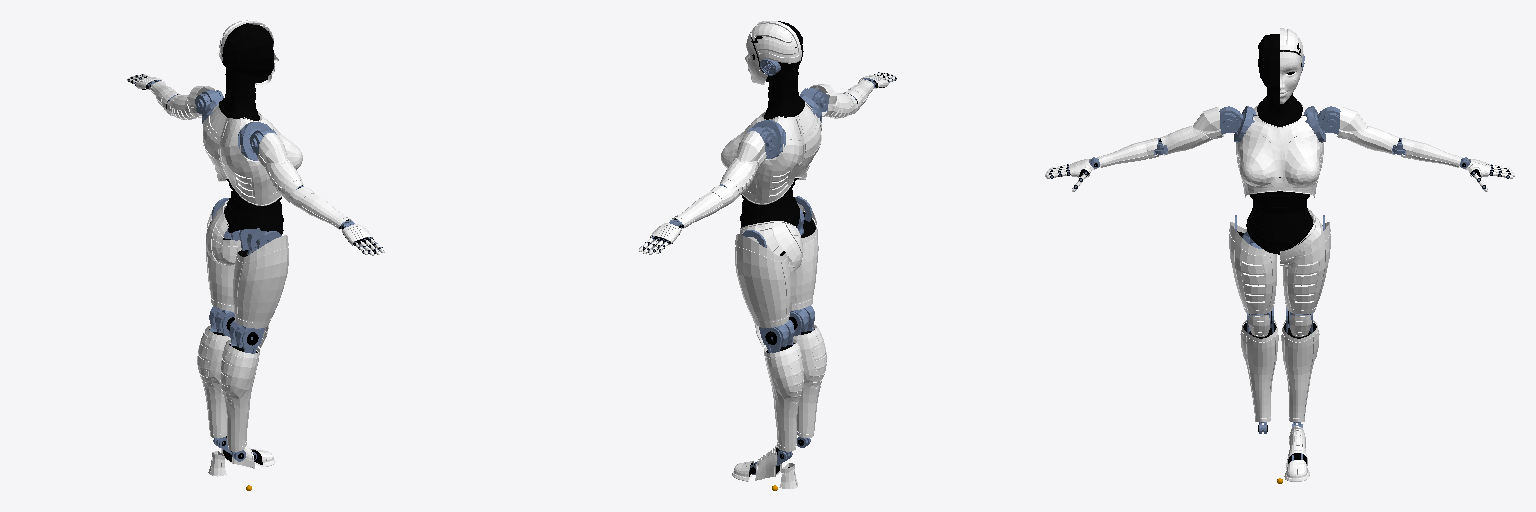
URDF robot description (humanMeshed):
<?xml version="1.0"?>
<robot name="humanMeshed">

  <link name="base_link">
    <visual>
      <geometry>
        <sphere radius="0.01"/>
      </geometry>
    </visual>
  </link>

<!--   HIP starts here  -->
  <link name="hip_roll"/>

  <joint name="hip_roll" type="continuous">
    <parent link="base_link" />
    <child link="hip_roll" />
    <origin xyz="0 0 0.884764"/>
    <axis xyz="1.0 0 0"/>
  </joint>

  <link name="hip_pitch">
    
  </link>

  <joint name="hip_pitch" type="continuous">
    <parent link="hip_roll"/>
    <child link="hip_pitch"/>
    <origin xyz="0 0 0"/>
    <axis xyz="0 1.0 0"/>
  </joint>

  <link name="hip_yaw">
        <visual>
      <geometry>  
        <mesh filename="package://online_tempo/models/humanMeshed/meshes/pelvis.dae" scale="0.06 0.06 0.06"/>
     </geometry>
      <origin rpy="0 0 1.57075" xyz="0 0 -0.96"/>   
    </visual>
  </link>

  <joint name="hip_yaw" type="continuous">
    <parent link="hip_pitch"/>
    <child link="hip_yaw"/>
    <origin xyz="0 0 0"/>
    <axis xyz="0 0 1.0"/>
  </joint>

 <!--           HIP ENDS HERE        -->
 <!--      RIGHT THIGH STARTS HERE    -->
 <joint name="right_thigh_roll" type="continuous">
    <parent link="hip_yaw"/>
    <child link="right_thigh_roll"/>
    <origin xyz="0 -0.0875 0.0375"/>
    <axis xyz="1.0 0 0"/>
 </joint>

 <link name="right_thigh_roll"/>

 <joint name="right_thigh_pitch" type="continuous">
    <parent link="right_thigh_roll"/>
    <child link="right_thigh_pitch"/>
    <origin xyz="0 0 0"/>
    <axis xyz="0 1.0 0"/>
 </joint>

 <link name="right_thigh_pitch"/>

 <joint name="right_thigh_yaw" type="continuous">
    <parent link="right_thigh_pitch"/>
    <child link="right_thigh_yaw"/>
    <origin xyz="0 0 0"/>
    <axis xyz="0 0 1.0"/>
 </joint>

<link name="right_thigh_yaw">
  <visual>
    <geometry>
      <mesh filename="package://online_tempo/models/humanMeshed/meshes/rightThigh.dae" scale="0.06 0.06 0.06"/>
    </geometry>      
    <origin rpy="0 0 1.57075" xyz="0 0.0875 -0.8725"/>  
  </visual>
</link>
<!--       RIGHT THIGH ENDS HERE       -->
<!--       RIGHT KNEE STARTS HERE      -->
<joint name="right_knee_roll" type="continuous">
  <parent link="right_thigh_yaw"/>
  <child link="right_knee_roll"/>
  <origin xyz="-0.05 0.02 -0.3375"/>
  <axis xyz="1.0 0 0"/>
</joint>

<link name="right_knee_roll"/>

<joint name="right_knee_pitch" type="continuous">
  <parent link="right_knee_roll"/>
  <child link="right_knee_pitch"/>
  <origin xyz="0 0 0"/>
  <axis xyz="0 1.0 0"/>
</joint>

<link name="right_knee_pitch"/>

<joint name="right_knee_yaw" type="continuous">
  <parent link="right_knee_pitch"/>
  <child link="right_knee_yaw"/>
  <origin xyz="0 0 0"/>
  <axis xyz="0 0 1.0"/>
</joint>

<link name="right_knee_yaw">
  <visual>
    <geometry>
      <mesh filename="package://online_tempo/models/humanMeshed/meshes/rightShin.dae" scale="0.06 0.06 0.06"/>
    </geometry>      
    <origin rpy="0 0 1.57075" xyz="0.05 0.0675 -0.53"/>    
  </visual>
</link>
<!--         RIGHT KNEE ENDS HERE   -->
<!--         RIGHT FOOT STARTS HERE -->
<joint name="right_foot_roll" type="continuous">
  <parent link="right_knee_yaw"/>
  <child link="right_foot_roll"/>
  <origin xyz="-0.0225 0.0125 -0.425"/>
  <axis xyz="1.0 0 0"/>
</joint> 

<link name="right_foot_roll"/>

<joint name="right_foot_pitch" type="continuous">
  <parent link="right_foot_roll"/>
  <child link="right_foot_pitch"/>
  <origin xyz="0 0 0"/>
  <axis xyz="0 1.0 0"/>
</joint> 

<link name="right_foot_pitch"/>

<joint name="right_foot_yaw" type="continuous">
  <parent link="right_foot_pitch"/>
  <child link="right_foot_yaw"/>
  <origin xyz="0 0 0"/>
  <axis xyz="0 0 1.0"/>
</joint> 

<link name="right_foot_yaw">
  <visual>
    <geometry>
      <mesh filename="package://online_tempo/models/humanMeshed/meshes/rightFoot.dae" scale="0.06 0.06 0.06"/>
    </geometry>
    <origin rpy="0 0 1.57075" xyz="0.07375 0.055 -0.1075"/>    
   </visual>
 </link>

<joint name="right_toe_roll" type="continuous">
  <parent link="right_foot_yaw"/>
  <child link="right_toe_roll"/>
  <origin xyz="0.11 -0.0025 -0.07"/>
  <axis xyz="1.0 0 0"/>
</joint>

<link name="right_toe_roll"/>

<joint name="right_toe_pitch" type="continuous">
  <parent link="right_toe_roll"/>
  <child link="right_toe_pitch"/>
  <origin xyz="0 0 0"/>
  <axis xyz="0 1.0 0"/>
</joint>

<link name="right_toe_pitch"/>

<joint name="right_toe_yaw" type="continuous">
  <parent link="right_toe_pitch"/>
  <child link="right_toe_yaw"/>
  <origin xyz="0 0 0"/>
  <axis xyz="0 0 1.0"/>
</joint>

<link name="right_toe_yaw"/>

<!--   RIGHT FOOT ENDS HERE   -->
<!--   LEFT THIGH STARTS HERE -->
 <joint name="left_thigh_roll" type="continuous">
    <parent link="hip_yaw"/>
    <child link="left_thigh_roll"/>
    <origin xyz="0 0.0875 0.0375"/>
    <axis xyz="1.0 0 0"/>
 </joint>

 <link name="left_thigh_roll"/>

 <joint name="left_thigh_pitch" type="continuous">
    <parent link="left_thigh_roll"/>
    <child link="left_thigh_pitch"/>
    <origin xyz="0 0 0"/>
    <axis xyz="0 1.0 0"/>
 </joint>

 <link name="left_thigh_pitch"/>

 <joint name="left_thigh_yaw" type="continuous">
    <parent link="left_thigh_pitch"/>
    <child link="left_thigh_yaw"/>
    <origin xyz="0 0 0"/>
    <axis xyz="0 0 1.0"/>
 </joint>

<link name="left_thigh_yaw">
  <visual>
    <geometry>
      <mesh filename="package://online_tempo/models/humanMeshed/meshes/leftThigh.dae" scale="0.06 0.06 0.06"/>
    </geometry>      
    <origin rpy="0 0 1.57075" xyz="0 -0.0875 -0.8725"/>    
  </visual>
</link>
<!--     LEFT THIGH ENDS HERE -->
<!--       LEFT KNEE STARTS HERE      -->
<joint name="left_knee_roll" type="continuous">
  <parent link="left_thigh_yaw"/>
  <child link="left_knee_roll"/>
  <origin xyz="-0.05 -0.02 -0.3375"/>
  <axis xyz="1.0 0 0"/>
</joint>

<link name="left_knee_roll"/>

<joint name="left_knee_pitch" type="continuous">
  <parent link="left_knee_roll"/>
  <child link="left_knee_pitch"/>
  <origin xyz="0 0 0"/>
  <axis xyz="0 1.0 0"/>
</joint>

<link name="left_knee_pitch"/>

<joint name="left_knee_yaw" type="continuous">
  <parent link="left_knee_pitch"/>
  <child link="left_knee_yaw"/>
  <origin xyz="0 0 0"/>
  <axis xyz="0 0 1.0"/>
</joint>

<link name="left_knee_yaw">
  <visual>
    <geometry>
      <mesh filename="package://online_tempo/models/humanMeshed/meshes/leftShin.dae" scale="0.06 0.06 0.06"/>
    </geometry>      
    <origin rpy="0 0 1.57075" xyz="0.05 -0.0675 -0.53"/>   
  </visual>
</link>
<!--         left KNEE ENDS HERE   -->
<!--         left FOOT STARTS HERE -->
<joint name="left_foot_roll" type="continuous">
  <parent link="left_knee_yaw"/>
  <child link="left_foot_roll"/>
  <origin xyz="-0.0225 -0.0125 -0.425"/>
  <axis xyz="1.0 0 0"/>
</joint> 

<link name="left_foot_roll"/>

<joint name="left_foot_pitch" type="continuous">
  <parent link="left_foot_roll"/>
  <child link="left_foot_pitch"/>
  <origin xyz="0 0 0"/>
  <axis xyz="0 1.0 0"/>
</joint> 

<link name="left_foot_pitch"/>

<joint name="left_foot_yaw" type="continuous">
  <parent link="left_foot_pitch"/>
  <child link="left_foot_yaw"/>
  <origin xyz="0 0 0"/>
  <axis xyz="0 0 1.0"/>
</joint> 

<link name="left_foot_yaw">
  <visual>
    <geometry>
      <mesh filename="package://online_tempo/models/humanMeshed/meshes/leftFoot.dae" scale="0.06 0.06 0.06"/>
    </geometry>
    <origin rpy="0 0 1.57075" xyz="0.07375 -0.055 -0.1075"/>    
   </visual>
</link>

<joint name="left_toe_roll" type="continuous">
  <parent link="left_foot_yaw"/>
  <child link="left_toe_roll"/>
  <origin xyz="0.11 0.0025 -0.07"/>
  <axis xyz="1.0 0 0"/>
</joint>

<link name="left_toe_roll"/>

<joint name="left_toe_pitch" type="continuous">
  <parent link="left_toe_roll"/>
  <child link="left_toe_pitch"/>
  <origin xyz="0 0 0"/>
  <axis xyz="0 1.0 0"/>
</joint>

<link name="left_toe_pitch"/>

<joint name="left_toe_yaw" type="continuous">
  <parent link="left_toe_pitch"/>
  <child link="left_toe_yaw"/>
  <origin xyz="0 0 0"/>
  <axis xyz="0 0 1.0"/>
</joint>

<link name="left_toe_yaw"/>



<!--   left FOOT ENDS HERE   -->
<!--   lower_spine STARTS HERE   -->
<joint name="lower_spine_roll" type="continuous">
  <parent link="hip_yaw"/>
  <child link="lower_spine_roll"/>
  <origin xyz="0 0 0.025"/>
  <axis xyz="1.0 0 0"/>
</joint>

<link name="lower_spine_roll"/>

<joint name="lower_spine_pitch" type="continuous">
  <parent link="lower_spine_roll"/>
  <child link="lower_spine_pitch"/>
  <origin xyz="0 0 0"/>
  <axis xyz="0 1.0 0"/>
</joint>

<link name="lower_spine_pitch"/>

<joint name="lower_spine_yaw" type="continuous">
  <parent link="lower_spine_pitch"/>
  <child link="lower_spine_yaw"/>
  <origin xyz="0 0 0"/>
  <axis xyz="0 0 1.0"/>
</joint>


<link name="lower_spine_yaw">
  <visual>
    <geometry>
              <mesh filename="package://online_tempo/models/humanMeshed/meshes/abdomen.dae" scale="0.06 0.06 0.06"/>
    </geometry>
    <origin rpy="0 0 1.57075" xyz="-0.005 0 -1"/>    
  </visual>
</link>

<!--  lower_spine ENDS HERE     -->
<!--  middle_spine Starts here  -->
<joint name="middle_spine_roll" type="continuous">
  <parent link="lower_spine_yaw"/>
  <child link="middle_spine_roll"/>
  <origin xyz="0 0 0.08"/>
  <axis xyz="1.0 0 0"/>
</joint>

<link name="middle_spine_roll"/>

<joint name="middle_spine_pitch" type="continuous">
  <parent link="middle_spine_roll"/>
  <child link="middle_spine_pitch"/>
  <origin xyz="0 0 0"/>
  <axis xyz="0 1.0 0"/>
</joint>

<link name="middle_spine_pitch"/>

<joint name="middle_spine_yaw" type="continuous">
  <parent link="middle_spine_pitch"/>
  <child link="middle_spine_yaw"/>
  <origin xyz="0 0 0"/>
  <axis xyz="0 0 1.0"/>
</joint>

<link name="middle_spine_yaw">
  <!--
  <visual>
    <geometry>
        <box size="0.10 0.25 0.08"/>
    </geometry>
    <origin rpy="0 0 0" xyz="0 0 0.04"/>    
  </visual>
-->
</link>

<!--  middle_spine Ends here    -->
<!--  CHEST STARTS HERE     -->
<joint name="chest_roll" type="continuous">
  <parent link="middle_spine_yaw"/>
  <child link="chest_roll"/>
  <origin xyz="0 0 0.08"/>
  <axis xyz="1.0 0 0"/>
</joint>

<link name="chest_roll"/>

<joint name="chest_pitch" type="continuous">
  <parent link="chest_roll"/>
  <child link="chest_pitch"/>
  <origin xyz="0 0 0"/>
  <axis xyz="0 1.0 0"/>
</joint>

<link name="chest_pitch"/>

<joint name="chest_yaw" type="continuous">
  <parent link="chest_pitch"/>
  <child link="chest_yaw"/>
  <origin xyz="0 0 0"/>
  <axis xyz="0 0 1.0"/>
</joint>

<link name="chest_yaw">
  <visual>
    <geometry>
      <mesh filename="package://online_tempo/models/humanMeshed/meshes/chest.dae" scale="0.06 0.06 0.06"/>
    </geometry>
    <origin rpy="0 0 1.57075" xyz="0 0 -1.2"/>    
  </visual>
</link>
<!--     Chest ends here            -->
<!--     left clavicle starts here  -->
<joint name="left_clavicle_roll" type="continuous">
  <parent link="chest_yaw"/>
  <child link="left_clavicle_roll"/>
  <origin xyz="-0.04 0.0125 0.22"/>
  <axis xyz="1.0 0 0"/>
</joint>

<link name="left_clavicle_roll"/>

<joint name="left_clavicle_pitch" type="continuous">
  <parent link="left_clavicle_roll"/>
  <child link="left_clavicle_pitch"/>
  <origin xyz="0 0 0"/>
  <axis xyz="0 1.0 0"/>
</joint>

<link name="left_clavicle_pitch"/>

<joint name="left_clavicle_yaw" type="continuous">
  <parent link="left_clavicle_pitch"/>
  <child link="left_clavicle_yaw"/>
  <origin xyz="0 0 0"/>
  <axis xyz="0 0 1.0"/>
</joint>

<link name="left_clavicle_yaw">
  <visual>
    <geometry>
    <mesh filename="package://online_tempo/models/humanMeshed/meshes/leftClavicle.dae" scale="0.06 0.06 0.06"/>
    </geometry>
    <origin rpy="0 0 1.57075" xyz="0.04 0 -1.4"/>
  </visual>
</link>
<!-- left clavicle ends here   -->
<!-- left shoulder starts here -->
<joint name="left_shoulder_roll" type="continuous">
  <parent link="left_clavicle_yaw"/>
  <child link="left_shoulder_roll"/>
  <origin xyz="0 0.16 0.0225"/>
  <axis xyz="1.0 0 0"/>
</joint>

<link name="left_shoulder_roll"/>

<joint name="left_shoulder_pitch" type="continuous">
  <parent link="left_shoulder_roll"/>
  <child link="left_shoulder_pitch"/>
  <origin xyz="0 0 0"/>
  <axis xyz="0 1.0 0"/>
</joint>

<link name="left_shoulder_pitch"/>

<joint name="left_shoulder_yaw" type="continuous">
  <parent link="left_shoulder_pitch"/>
  <child link="left_shoulder_yaw"/>
  <origin xyz="0 0 0"/>
  <axis xyz="0 0 1.0"/>
</joint>

<link name="left_shoulder_yaw">
  <visual>
    <geometry>
      <mesh filename="package://online_tempo/models/humanMeshed/meshes/leftBicep.dae" scale="0.06 0.06 0.06"/> 
    </geometry>
    <origin rpy="0 0 1.57075 " xyz="0.04 -0.16 -1.42" />
  </visual>
</link>
<!-- left shoulder ends here -->
<!-- left elbow starts here -->
<joint name="left_elbow_roll" type="continuous">
  <parent link="left_shoulder_yaw"/>
  <child link="left_elbow_roll"/>
  <origin xyz="0 0.23 -0.095"/>
  <axis xyz="1.0 0 0"/>
</joint>

<link name="left_elbow_roll"/>

<joint name="left_elbow_pitch" type="continuous">
  <parent link="left_elbow_roll"/>
  <child link="left_elbow_pitch"/>
  <origin xyz="0 0 0"/>
  <axis xyz="0 1.0 0"/>
</joint>

<link name="left_elbow_pitch"/>

<joint name="left_elbow_yaw" type="continuous">
  <parent link="left_elbow_pitch"/>
  <child link="left_elbow_yaw"/>
  <origin xyz="0 0 0"/>
  <axis xyz="0 0 1.0"/>
</joint>

<link name="left_elbow_yaw">
  <visual>
    <geometry>
      <mesh filename="package://online_tempo/models/humanMeshed/meshes/leftForearm.dae" scale="0.06 0.06 0.06"/> 
    </geometry>
    <origin rpy="0 0 1.57075 " xyz="0.04 -0.4 -1.322" />
  </visual>
</link>
<!-- left elbow ends here   -->
<!-- left hand starts here  -->
<joint name="left_hand_roll" type="continuous">
  <parent link="left_elbow_yaw"/>
  <child link="left_hand_roll"/>
  <origin xyz="0.046 0.211 -0.04"/>
  <axis xyz="1.0 0 0"/>
</joint>

<link name="left_hand_roll"/>

<joint name="left_hand_pitch" type="continuous">
  <parent link="left_hand_roll"/>
  <child link="left_hand_pitch"/>
  <origin xyz="0 0 0"/>
  <axis xyz="0 1.0 0"/>
</joint>

<link name="left_hand_pitch"/>

<joint name="left_hand_yaw" type="continuous">
  <parent link="left_hand_pitch"/>
  <child link="left_hand_yaw"/>
  <origin xyz="0 0 0"/>
  <axis xyz="0 0 1.0"/>
</joint>

<link name="left_hand_yaw">
  <visual>
    <geometry>
      <mesh filename="package://online_tempo/models/humanMeshed/meshes/leftHand.dae" scale="0.06 0.06 0.06"/> 
    </geometry>
    <origin rpy="0 0 1.57075 " xyz="-0.0075 -0.61 -1.28" />
  </visual>
</link>
<!-- left hand ends here    -->

<joint name="right_clavicle_roll" type="continuous">
  <parent link="chest_yaw"/>
  <child link="right_clavicle_roll"/>
  <origin xyz="-0.04 -0.0125 0.22"/>
  <axis xyz="1.0 0 0"/>
</joint>

<link name="right_clavicle_roll"/>

<joint name="right_clavicle_pitch" type="continuous">
  <parent link="right_clavicle_roll"/>
  <child link="right_clavicle_pitch"/>
  <origin xyz="0 0 0"/>
  <axis xyz="0 1.0 0"/>
</joint>

<link name="right_clavicle_pitch"/>

<joint name="right_clavicle_yaw" type="continuous">
  <parent link="right_clavicle_pitch"/>
  <child link="right_clavicle_yaw"/>
  <origin xyz="0 0 0"/>
  <axis xyz="0 0 1.0"/>
</joint>

<link name="right_clavicle_yaw">
  <visual>
    <geometry>
    <mesh filename="package://online_tempo/models/humanMeshed/meshes/rightClavicle.dae" scale="0.06 0.06 0.06"/>
    </geometry>
    <origin rpy="0 0 1.57075" xyz="0.04 0 -1.4"/>
  </visual>
</link>
<!-- right clavicle ends here   -->
<!-- right shoulder starts here -->
<joint name="right_shoulder_roll" type="continuous">
  <parent link="right_clavicle_yaw"/>
  <child link="right_shoulder_roll"/>
  <origin xyz="0 -0.16 0.0225"/>
  <axis xyz="1.0 0 0"/>
</joint>

<link name="right_shoulder_roll"/>

<joint name="right_shoulder_pitch" type="continuous">
  <parent link="right_shoulder_roll"/>
  <child link="right_shoulder_pitch"/>
  <origin xyz="0 0 0"/>
  <axis xyz="0 1.0 0"/>
</joint>

<link name="right_shoulder_pitch"/>

<joint name="right_shoulder_yaw" type="continuous">
  <parent link="right_shoulder_pitch"/>
  <child link="right_shoulder_yaw"/>
  <origin xyz="0 0 0"/>
  <axis xyz="0 0 1.0"/>
</joint>

<link name="right_shoulder_yaw">
  <visual>
    <geometry>
      <mesh filename="package://online_tempo/models/humanMeshed/meshes/rightBicep.dae" scale="0.06 0.06 0.06"/> 
    </geometry>
    <origin rpy="0 0 1.57075 " xyz="0.04 0.16 -1.42" />
  </visual>
</link>
<!-- right shoulder ends here -->
<!-- right elbow starts here -->
<joint name="right_elbow_roll" type="continuous">
  <parent link="right_shoulder_yaw"/>
  <child link="right_elbow_roll"/>
  <origin xyz="0 -0.23 -0.095"/>
  <axis xyz="1.0 0 0"/>
</joint>

<link name="right_elbow_roll"/>

<joint name="right_elbow_pitch" type="continuous">
  <parent link="right_elbow_roll"/>
  <child link="right_elbow_pitch"/>
  <origin xyz="0 0 0"/>
  <axis xyz="0 1.0 0"/>
</joint>

<link name="right_elbow_pitch"/>

<joint name="right_elbow_yaw" type="continuous">
  <parent link="right_elbow_pitch"/>
  <child link="right_elbow_yaw"/>
  <origin xyz="0 0 0"/>
  <axis xyz="0 0 1.0"/>
</joint>

<link name="right_elbow_yaw">
  <visual>
    <geometry>
      <mesh filename="package://online_tempo/models/humanMeshed/meshes/rightForearm.dae" scale="0.06 0.06 0.06"/> 
    </geometry>
    <origin rpy="0 0 1.57075 " xyz="0.04 0.4 -1.322" />
  </visual>
</link>
<!-- right elbow ends here   -->
<!-- right hand starts here  -->
<joint name="right_hand_roll" type="continuous">
  <parent link="right_elbow_yaw"/>
  <child link="right_hand_roll"/>
  <origin xyz="0.046 -0.211 -0.04"/>
  <axis xyz="1.0 0 0"/>
</joint>

<link name="right_hand_roll"/>

<joint name="right_hand_pitch" type="continuous">
  <parent link="right_hand_roll"/>
  <child link="right_hand_pitch"/>
  <origin xyz="0 0 0"/>
  <axis xyz="0 1.0 0"/>
</joint>

<link name="right_hand_pitch"/>

<joint name="right_hand_yaw" type="continuous">
  <parent link="right_hand_pitch"/>
  <child link="right_hand_yaw"/>
  <origin xyz="0 0 0"/>
  <axis xyz="0 0 1.0"/>
</joint>

<link name="right_hand_yaw">
  <visual>
    <geometry>
      <mesh filename="package://online_tempo/models/humanMeshed/meshes/rightHand.dae" scale="0.06 0.06 0.06"/> 
    </geometry>
    <origin rpy="0 0 1.57075 " xyz="-0.0075 0.61 -1.28" />
  </visual>
</link>
<!-- right hand ends here    -->

<!-- neck starts here   -->
<joint name="neck_roll" type="continuous">
  <parent link="chest_yaw"/>
  <child link="neck_roll"/>
  <origin xyz="0 0 0.25"/>
  <axis xyz="1.0 0 0"/>
</joint>

<link name="neck_roll"/>

<joint name="neck_pitch" type="continuous">
  <parent link="neck_roll"/>
  <child link="neck_pitch"/>
  <origin xyz="0 0 0"/>
  <axis xyz="0 1.0 0"/>
</joint>

<link name="neck_pitch"/>

<joint name="neck_yaw" type="continuous">
  <parent link="neck_pitch"/>
  <child link="neck_yaw"/>
  <origin xyz="0 0 0"/>
  <axis xyz="0 0 1.0"/>
</joint>

<link name="neck_yaw">
  <visual>
    <geometry>
      <mesh filename="package://online_tempo/models/humanMeshed/meshes/neck.dae" scale="0.06 0.06 0.06"/> 
    </geometry>
    <origin rpy="0 0 1.57075 " xyz="-0.0075 0 -1.45" />
  </visual>
</link>
<!-- neck ends here -->
<!-- head starts here -->
<joint name="head_roll" type="continuous">
  <parent link="neck_yaw"/>
  <child link="head_roll"/>
  <origin xyz="0 0 0.10"/>
  <axis xyz="1.0 0 0"/>
</joint>

<link name="head_roll"/>

<joint name="head_pitch" type="continuous">
  <parent link="head_roll"/>
  <child link="head_pitch"/>
  <origin xyz="0 0 0"/>
  <axis xyz="0 1.0 0"/>
</joint>

<link name="head_pitch"/>

<joint name="head_yaw" type="continuous">
  <parent link="head_pitch"/>
  <child link="head_yaw"/>
  <origin xyz="0 0 0"/>
  <axis xyz="0 0 1.0"/>
</joint>

<link name="head_yaw">
  <visual>
    <geometry>
      <mesh filename="package://online_tempo/models/humanMeshed/meshes/head.dae" scale="0.06 0.06 0.06"/> 
    </geometry>
    <origin rpy="0 0 1.57075 " xyz="-0.0075 0 -1.53" />
  </visual>
</link>
<!-- head ends here -->
</robot>

--- What the picture shows (computed from the rendered views, not written in the file) ---
3 views of the same robot in one strip: view 1: azimuth 30°, elevation 25°; view 2: azimuth 150°, elevation 25°; view 3: azimuth 270°, elevation 25° (orthographic).
Robot: humanMeshed — 67 links, 66 joints (66 continuous); root link base_link; default pose: every joint at zero.
Links seen in each view (by area): view 1: right_thigh_yaw, chest_yaw, right_knee_yaw, head_yaw, left_knee_yaw, left_thigh_yaw, right_shoulder_yaw, lower_spine_yaw, neck_yaw, right_elbow_yaw, left_shoulder_yaw, left_foot_yaw (+3 smaller); view 2: left_thigh_yaw, chest_yaw, left_knee_yaw, head_yaw, right_knee_yaw, right_thigh_yaw, left_shoulder_yaw, hip_yaw, neck_yaw, left_foot_yaw, lower_spine_yaw, left_elbow_yaw (+3 smaller); view 3: chest_yaw, lower_spine_yaw, right_thigh_yaw, right_knee_yaw, left_knee_yaw, left_thigh_yaw, head_yaw, right_shoulder_yaw, left_shoulder_yaw, neck_yaw, left_foot_yaw, left_elbow_yaw (+6 smaller).
Link boxes in pixels (box(x1,y1,x2,y2)): right_thigh_yaw: box(229, 228, 288, 346); chest_yaw: box(202, 104, 302, 205); right_knee_yaw: box(220, 320, 268, 461); head_yaw: box(219, 20, 278, 84); left_knee_yaw: box(197, 306, 234, 447); left_thigh_yaw: box(206, 198, 251, 332); right_shoulder_yaw: box(250, 129, 303, 203); lower_spine_yaw: box(224, 179, 283, 234); neck_yaw: box(219, 69, 259, 120); right_elbow_yaw: box(289, 185, 353, 229); left_shoulder_yaw: box(167, 86, 223, 119); left_foot_yaw: box(208, 436, 275, 476); left_thigh_yaw: box(735, 230, 794, 346); chest_yaw: box(721, 102, 821, 204); left_knee_yaw: box(755, 320, 803, 460); head_yaw: box(745, 21, 803, 84); right_knee_yaw: box(790, 305, 826, 447); right_thigh_yaw: box(788, 196, 818, 331); left_shoulder_yaw: box(719, 128, 773, 202); hip_yaw: box(740, 221, 803, 271); neck_yaw: box(764, 66, 804, 119); left_foot_yaw: box(732, 445, 797, 488); lower_spine_yaw: box(740, 178, 799, 227); left_elbow_yaw: box(670, 184, 734, 228); chest_yaw: box(1236, 104, 1323, 197); lower_spine_yaw: box(1246, 177, 1313, 254); right_thigh_yaw: box(1229, 215, 1276, 327); right_knee_yaw: box(1240, 308, 1278, 433); left_knee_yaw: box(1281, 308, 1319, 426); left_thigh_yaw: box(1283, 215, 1330, 327); head_yaw: box(1258, 28, 1304, 103); right_shoulder_yaw: box(1154, 106, 1237, 155); left_shoulder_yaw: box(1322, 106, 1405, 155); neck_yaw: box(1257, 90, 1302, 126); left_foot_yaw: box(1284, 424, 1309, 481); left_elbow_yaw: box(1392, 138, 1468, 168).
Bounding box of the posed robot: 0.2863 × 1.57 × 1.67 m (x, y, z).
18 mesh visuals loaded from 19 distinct referenced files (18 Collada DAE); not drawn: 1 (file found but could not be loaded).
